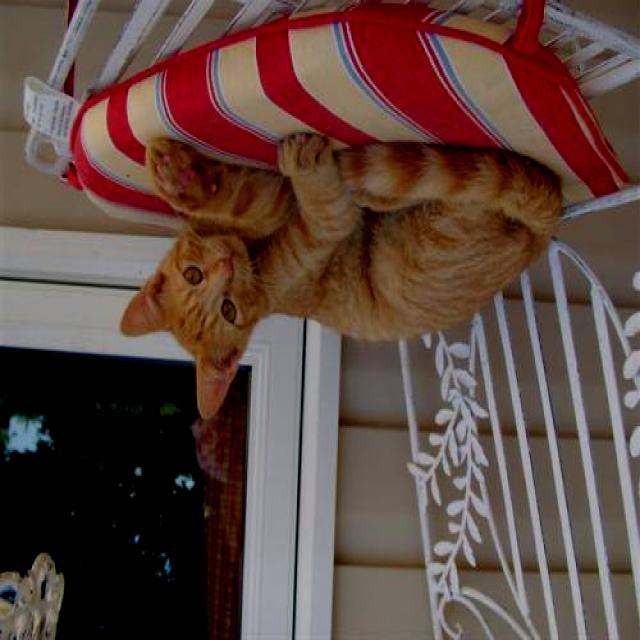Kucing: (115, 100, 582, 408)
